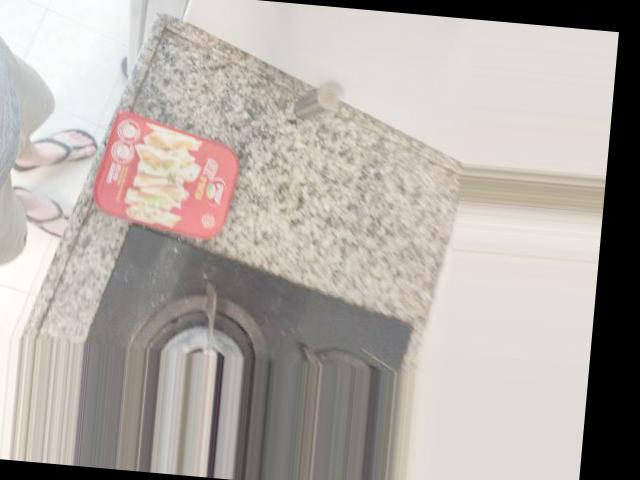cheese: (71, 103, 238, 240)
